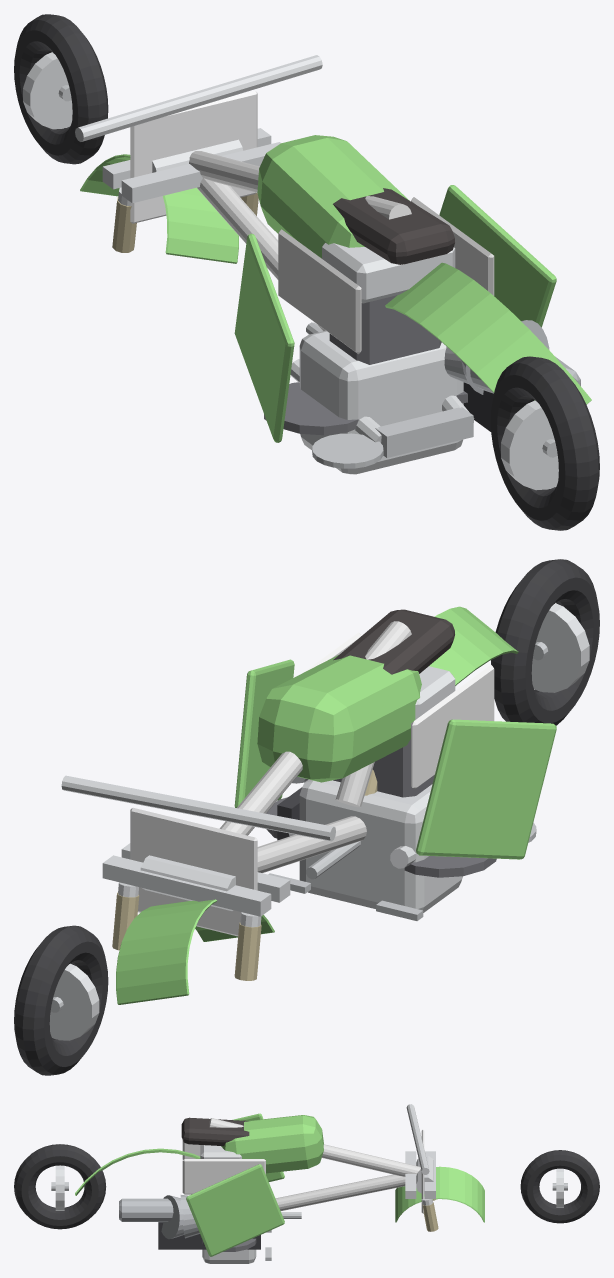
The picture shows the model from 3 angles, top to bottom: view 1: azimuth 30°, elevation 25°; view 2: azimuth 150°, elevation 25°; view 3: azimuth 270°, elevation 25°; orthographic projection. The views are drawn at different scales.
Parts seen in each view (by area): view 1: b_engine_case, b_rear_wheel_tire, b_tank, b_rear_fender, b_front_wheel_tire, b_shroud_-1, b_front_plate, b_shroud_1, b_sideplate_-1, b_seat, b_front_fender, b_handlebar (+16 smaller); view 2: b_shroud_-1, b_tank, b_engine_case, b_rear_wheel_tire, b_front_wheel_tire, b_front_plate, b_front_fender, b_handlebar, b_sideplate_-1, b_seat, b_rear_wheel_rim, b_clamp (+14 smaller); view 3: b_shroud_1, b_rear_wheel_tire, b_tank, b_front_wheel_tire, b_front_fender, b_frame_down, b_sideplate_1, b_frame_spine, b_seat, b_silencer, b_chain_guard, b_engine_case (+13 smaller).
Part boxes in pixels (x1,y1,x2,y2): b_engine_case: [299, 330, 463, 474]; b_rear_wheel_tire: [490, 356, 599, 530]; b_tank: [257, 135, 409, 258]; b_rear_fender: [385, 262, 591, 404]; b_front_wheel_tire: [14, 14, 108, 164]; b_shroud_-1: [234, 233, 294, 442]; b_front_plate: [130, 91, 257, 223]; b_shroud_1: [439, 185, 556, 327]; b_sideplate_-1: [278, 229, 361, 354]; b_seat: [333, 188, 454, 264]; b_front_fender: [80, 154, 238, 263]; b_handlebar: [75, 55, 322, 141]; b_shroud_-1: [416, 719, 556, 859]; b_tank: [257, 655, 421, 782]; b_engine_case: [299, 779, 462, 912]; b_rear_wheel_tire: [491, 559, 599, 725]; b_front_wheel_tire: [14, 925, 108, 1075]; b_front_plate: [130, 807, 257, 936]; b_front_fender: [116, 899, 274, 1004]; b_handlebar: [61, 775, 335, 841]; b_sideplate_-1: [411, 665, 494, 789]; b_seat: [333, 609, 454, 674]; b_rear_wheel_rim: [531, 603, 589, 692]; b_clamp: [102, 855, 271, 916]; b_shroud_1: [186, 1164, 284, 1256]; b_rear_wheel_tire: [14, 1144, 106, 1229]; b_tank: [221, 1115, 323, 1173]; b_front_wheel_tire: [520, 1150, 599, 1223]; b_front_fender: [395, 1166, 484, 1222]; b_frame_down: [275, 1174, 405, 1210]; b_sideplate_1: [182, 1159, 265, 1194]; b_frame_spine: [209, 1118, 420, 1176]; b_seat: [181, 1117, 249, 1146]; b_silencer: [119, 1198, 173, 1221]; b_chain_guard: [158, 1222, 260, 1249]; b_engine_case: [202, 1249, 256, 1263].
Size of the model in its own units: 0.657 by 0.5971 by 2.39.
